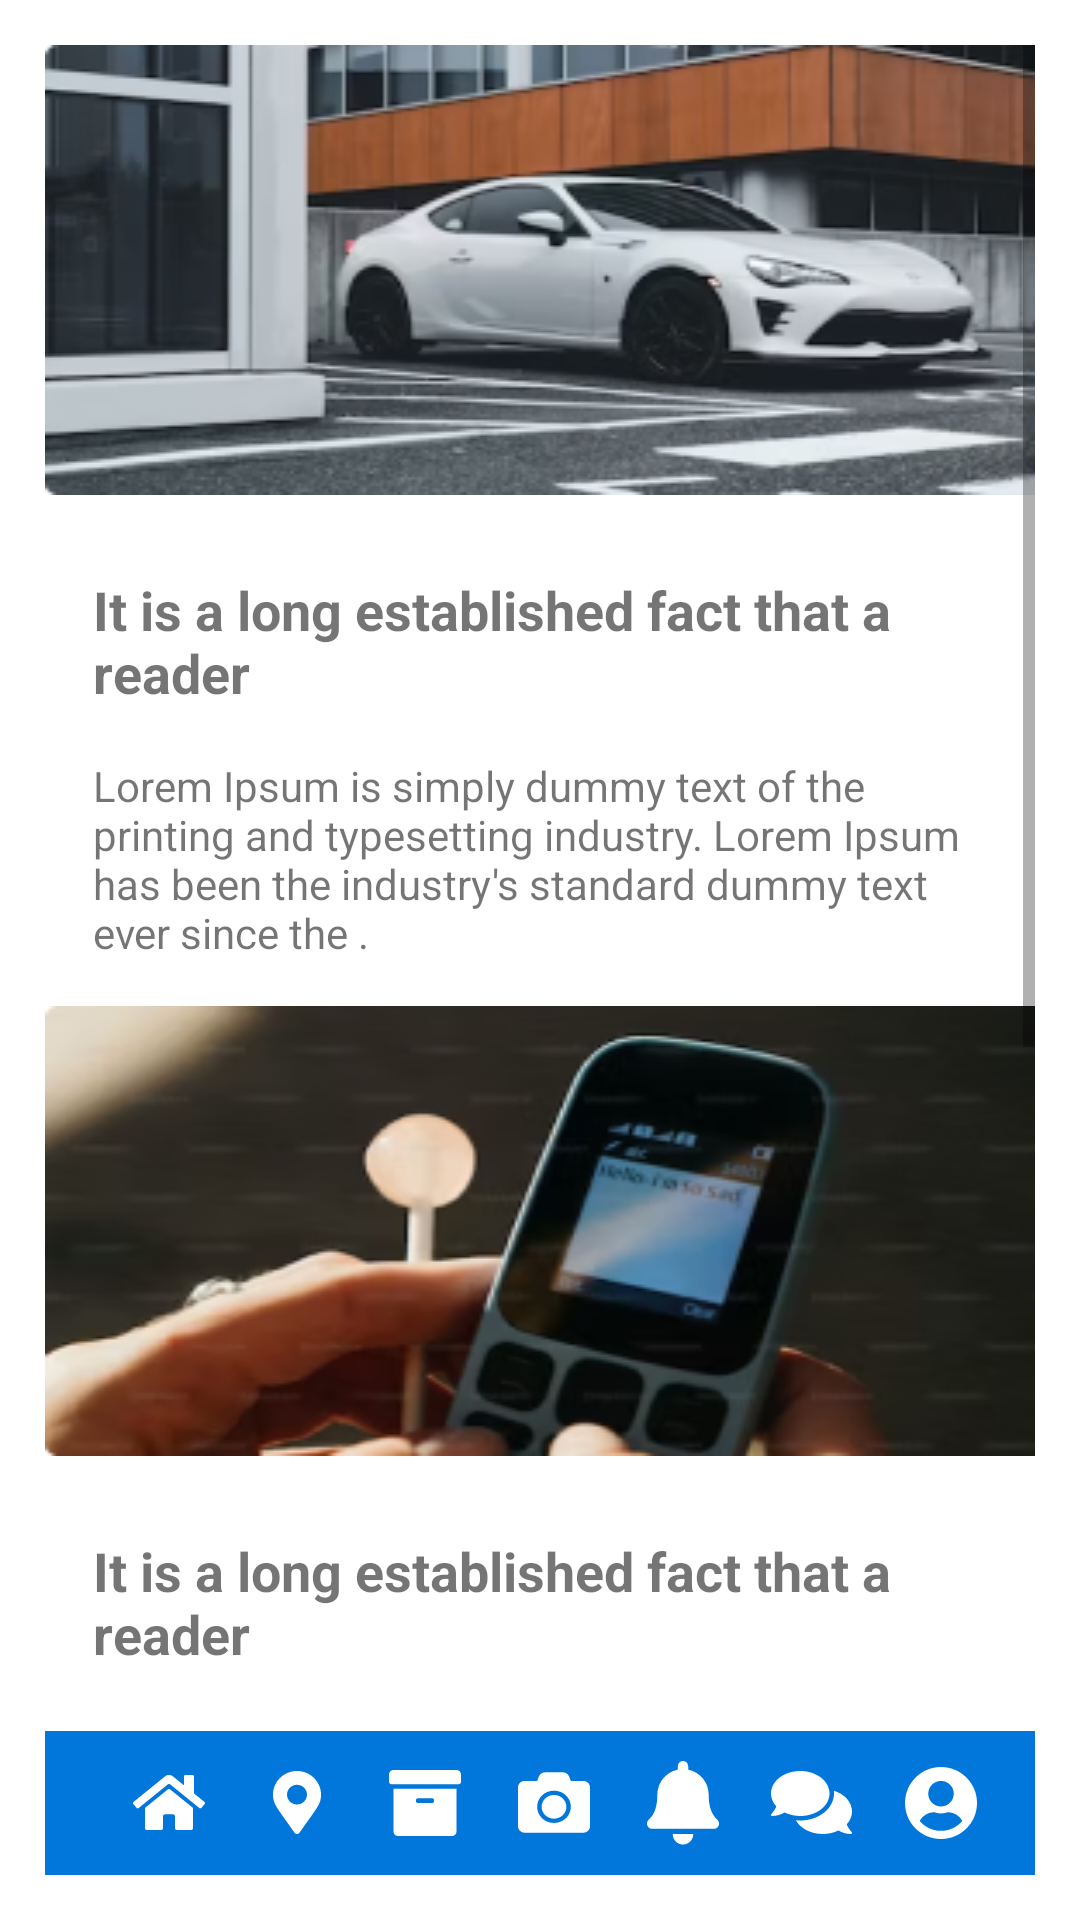

Icon click points for this 1080×1920 phone screenshot, format (x=x, y=y):
bildirimsayfasi: (x=683, y=1803)
camera: (x=554, y=1802)
home: (x=169, y=1802)
kutu: (x=425, y=1803)
locationmenu: (x=297, y=1802)
message: (x=811, y=1802)
proife: (x=941, y=1803)
